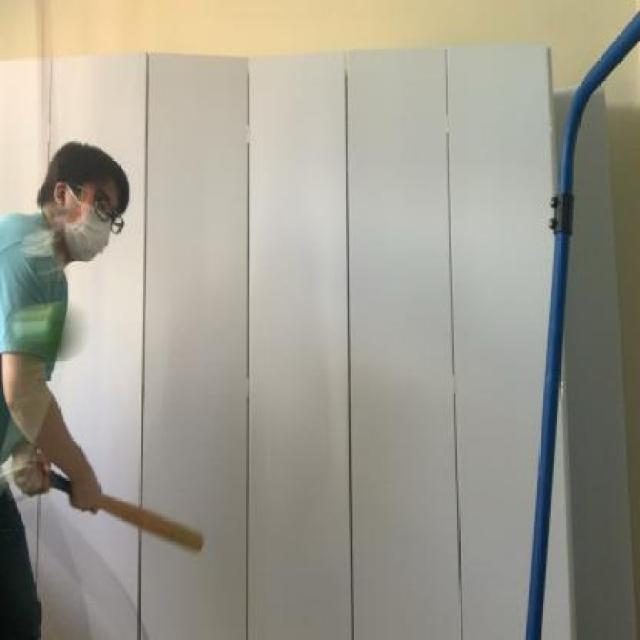baseball: (7, 290, 84, 367)
